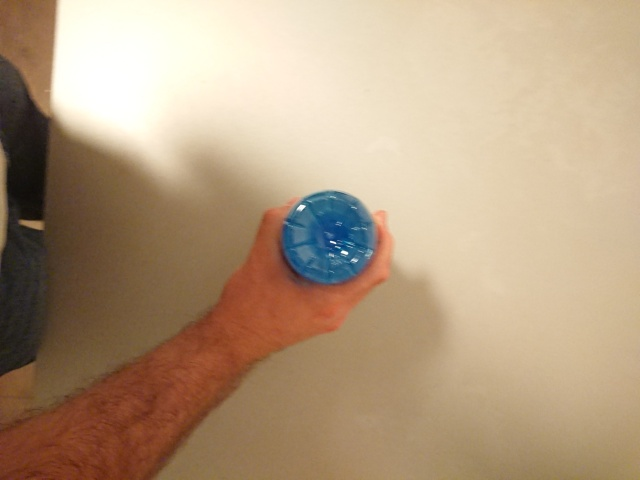Vindi Iso Sport Forest Strawberries 500mL: (277, 187, 381, 287)
